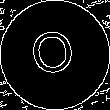O_S: (29, 25, 81, 85)
